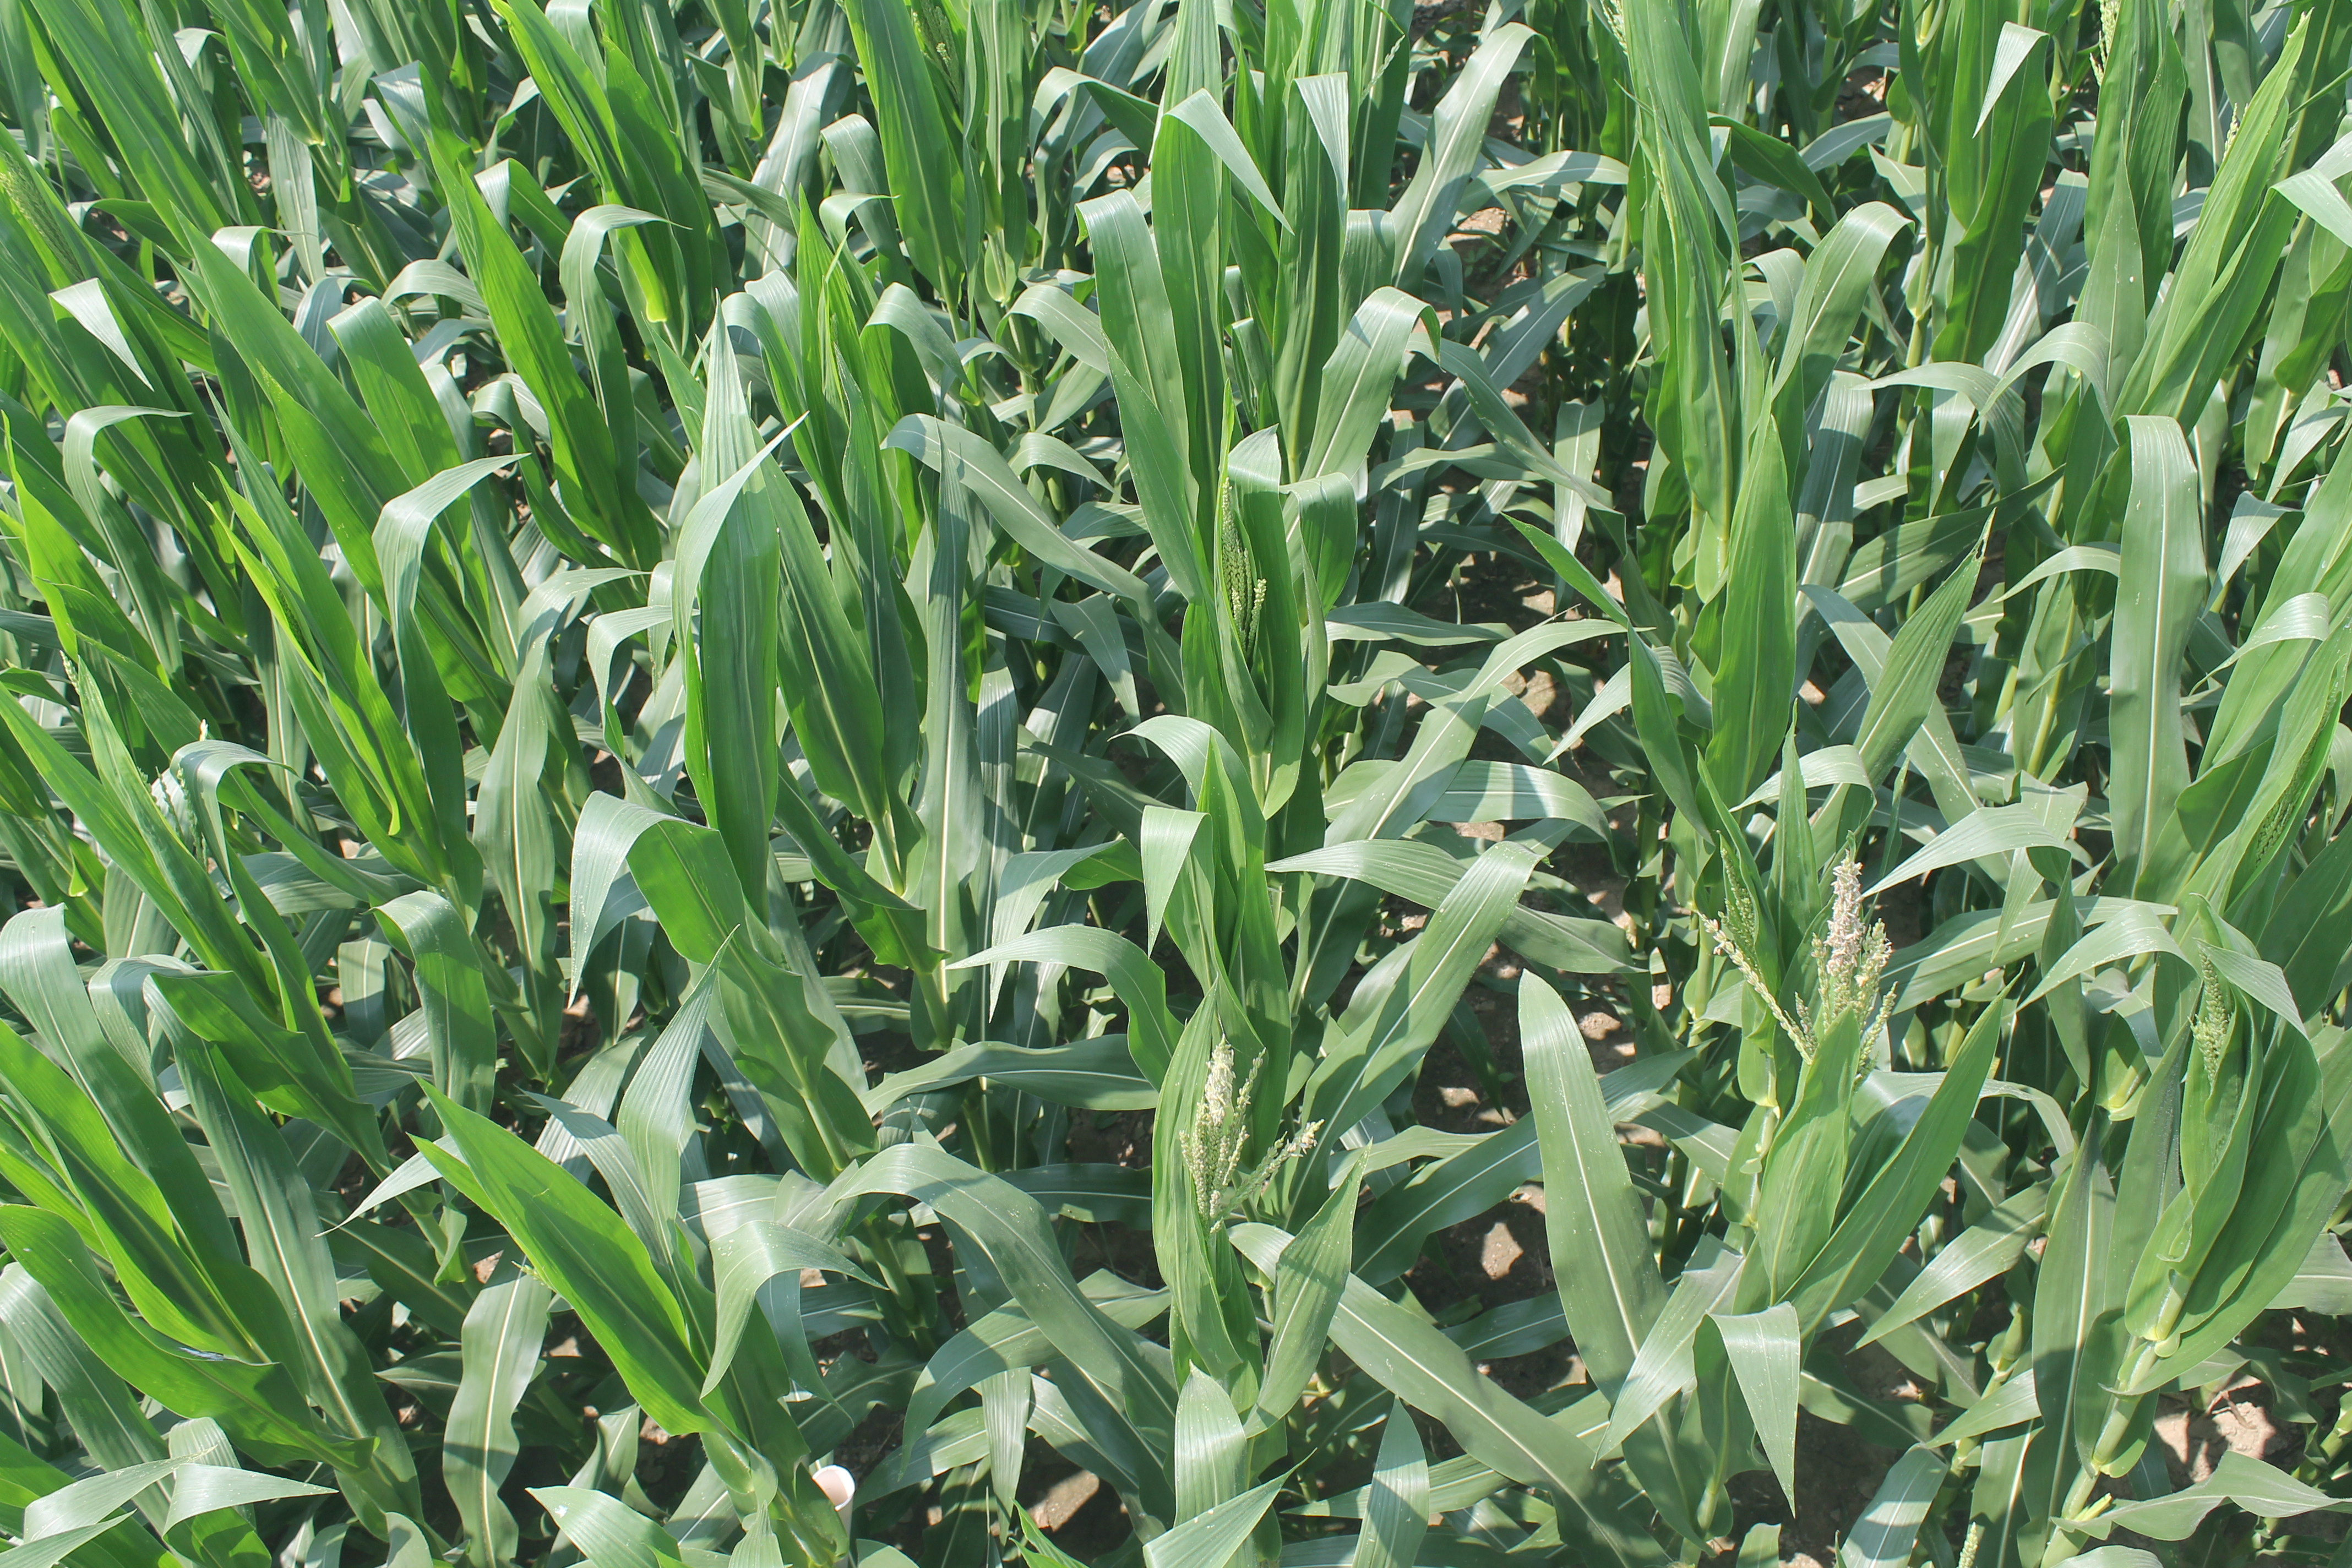Maize: (1190, 1034, 1304, 1227), (1792, 845, 1895, 1039)
